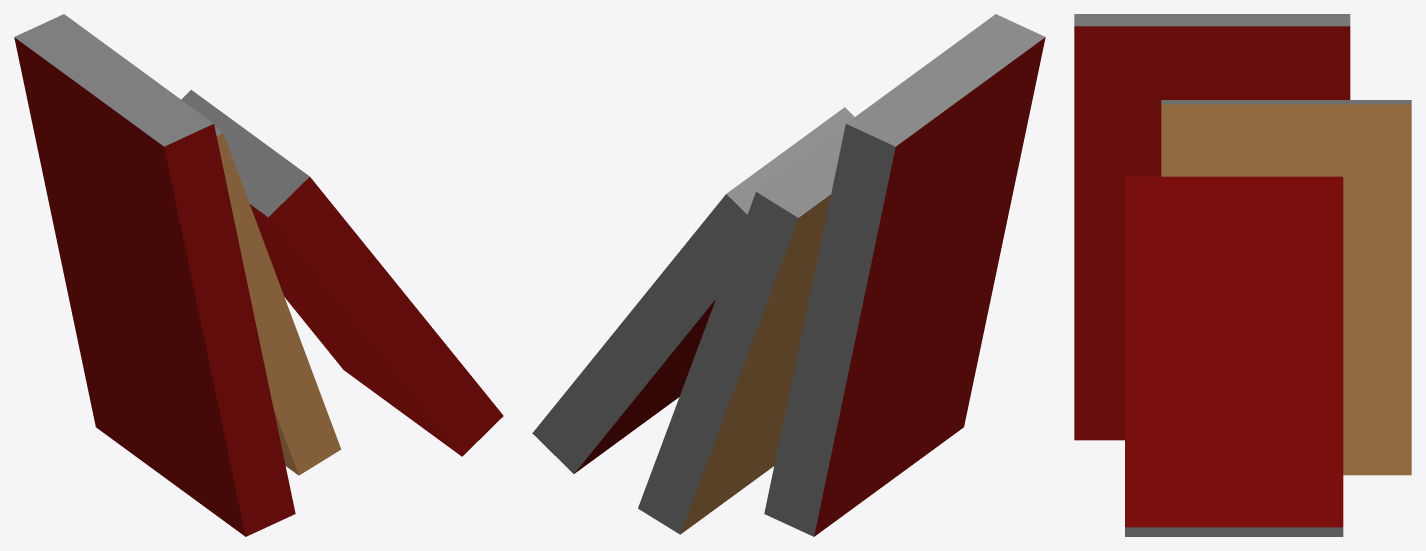
The model's file is Books04.glb.
The picture shows the model from 3 angles, left to right: view 1: azimuth 30°, elevation 25°; view 2: azimuth 150°, elevation 25°; view 3: azimuth 270°, elevation 25°; orthographic projection. The views are drawn at different scales.
Visible parts, largest first — view 1: Books04; view 2: Books04; view 3: Books04.
Boxes of the visible parts, x1,y1,x2,y2 form: Books04: [14, 14, 503, 536]; Books04: [532, 14, 1045, 536]; Books04: [1074, 14, 1411, 536].
Size of the model in its own units: 0.2689 by 0.2946 by 0.2325.
